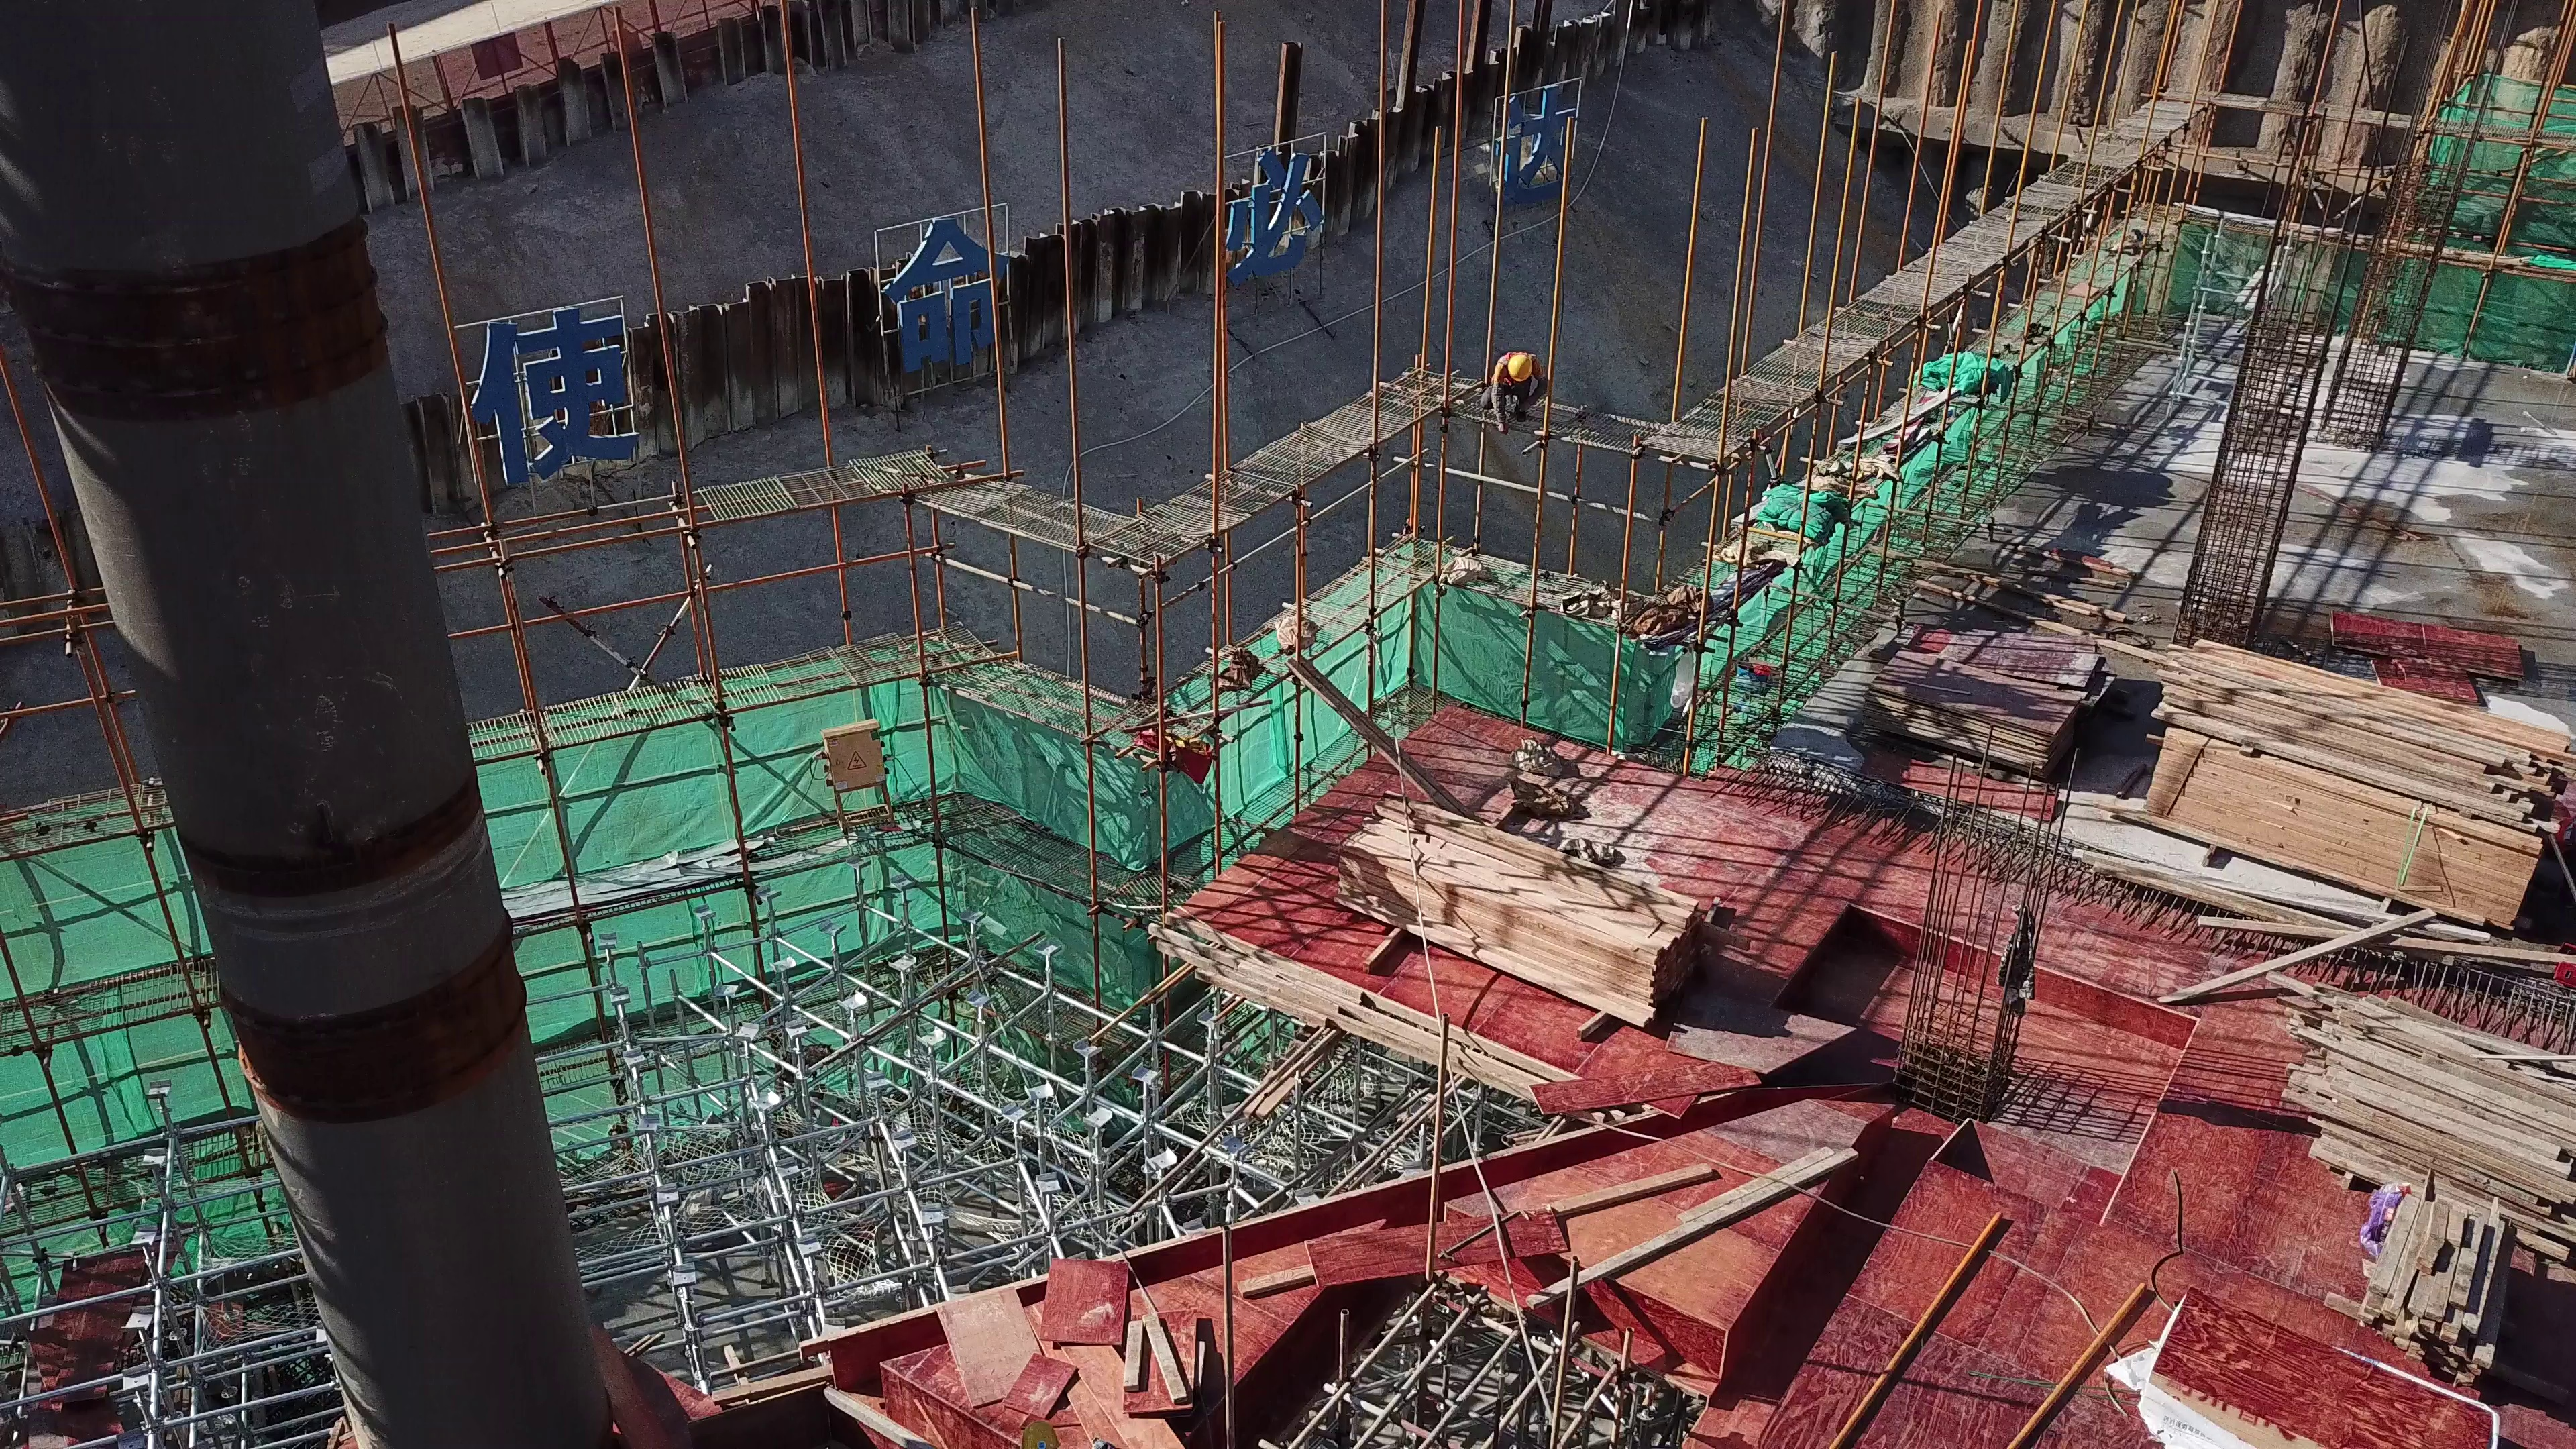board: (2147, 1281, 2498, 1449), (1866, 647, 2076, 776), (1911, 624, 2113, 711)
ebox: (821, 716, 896, 830)
helmet: (1505, 354, 1534, 384)
person: (1475, 345, 1547, 435)
wood: (2146, 633, 2576, 936), (2259, 967, 2576, 1254), (1340, 794, 1701, 1024), (2360, 1200, 2521, 1360)
